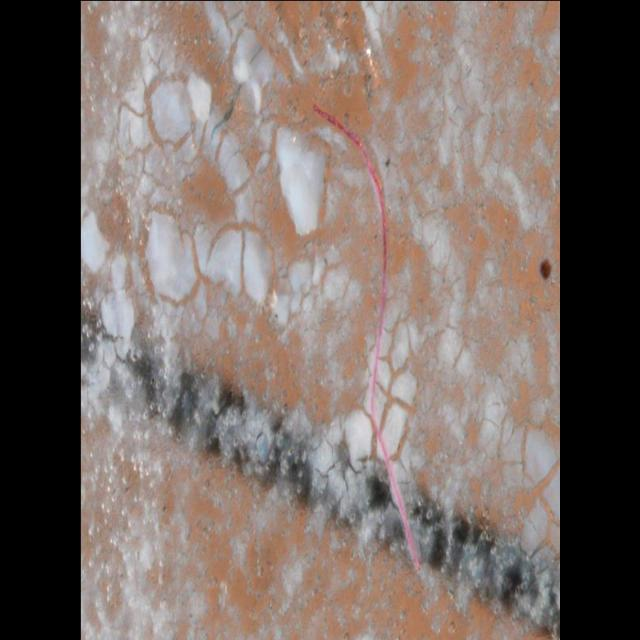Fibre: (306, 90, 428, 584)
